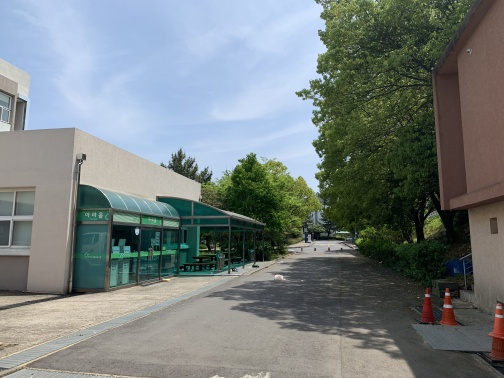Ara Hall: (7, 152, 271, 294)
